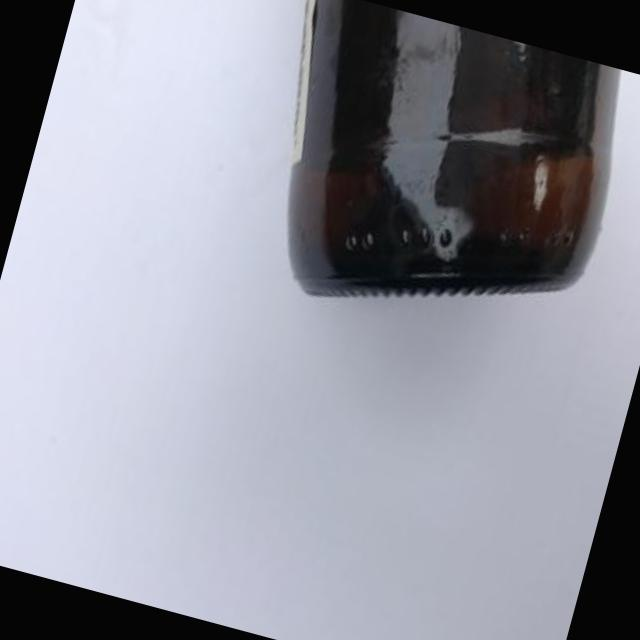chai_thuy_tinh: (289, 0, 619, 296)
